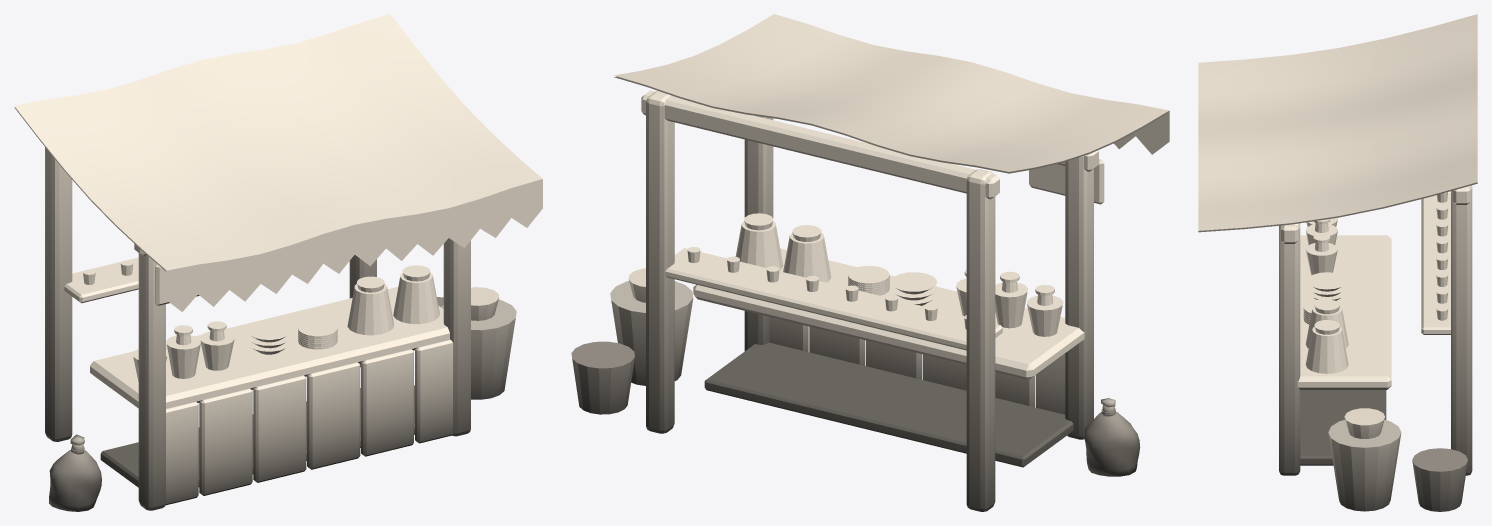
The model's file is SM_VK_MarketStall_Potter.fbx.
The picture shows the model from 3 angles, left to right: view 1: azimuth 30°, elevation 25°; view 2: azimuth 150°, elevation 25°; view 3: azimuth 270°, elevation 25°; orthographic projection. The views are drawn at different scales.
Visible parts, largest first — view 1: SM_VK_MarketStall_Potter.001; view 2: SM_VK_MarketStall_Potter.001; view 3: SM_VK_MarketStall_Potter.001.
Part boxes in pixels (box(x1,y1,x2,y2)): SM_VK_MarketStall_Potter.001: box(14, 14, 542, 511); SM_VK_MarketStall_Potter.001: box(571, 14, 1169, 511); SM_VK_MarketStall_Potter.001: box(1198, 14, 1477, 511).
Bounding box in the file's own units: 4.7 × 3.17 × 2.6.
